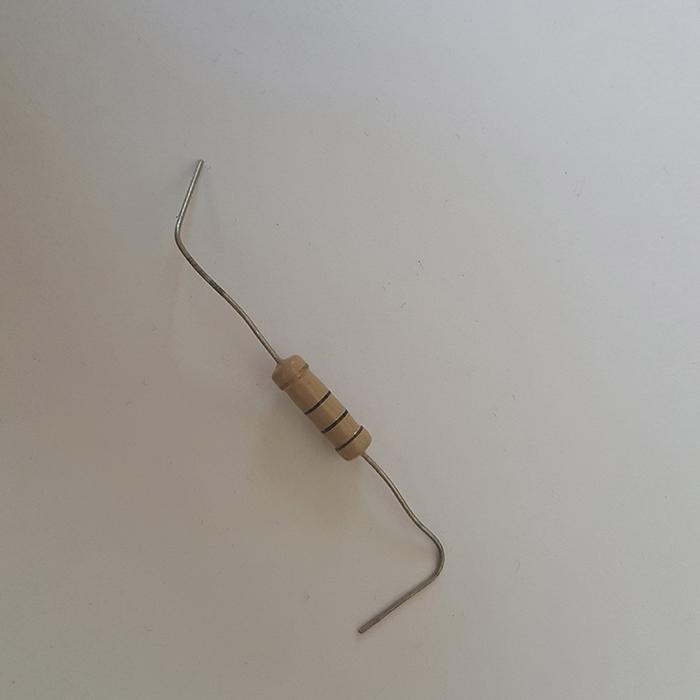resistor: (272, 354, 371, 459)
